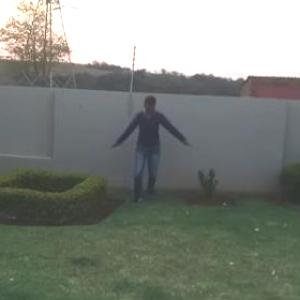land: (107, 93, 191, 210)
